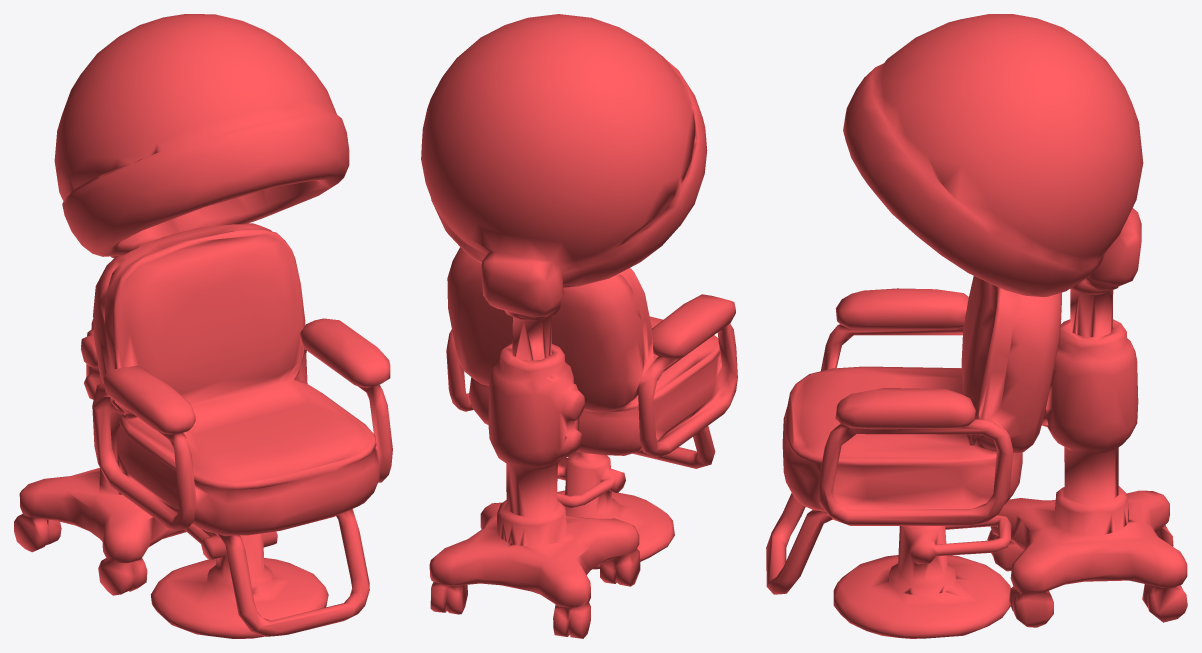
The model's file is Beauty.glb.
3 renders of one model, left to right at view 1: azimuth 30°, elevation 25°; view 2: azimuth 150°, elevation 25°; view 3: azimuth 270°, elevation 25°, orthographic. The views are drawn at different scales.
Visible parts, largest first — view 1: 美容; view 2: 美容; view 3: 美容.
Part boxes in pixels (box(x1,y1,x2,y2)): 美容: box(14, 14, 392, 638); 美容: box(421, 14, 737, 638); 美容: box(766, 14, 1187, 638).
Bounding box in the file's own units: 0.0239 × 0.0489 × 0.0327.
